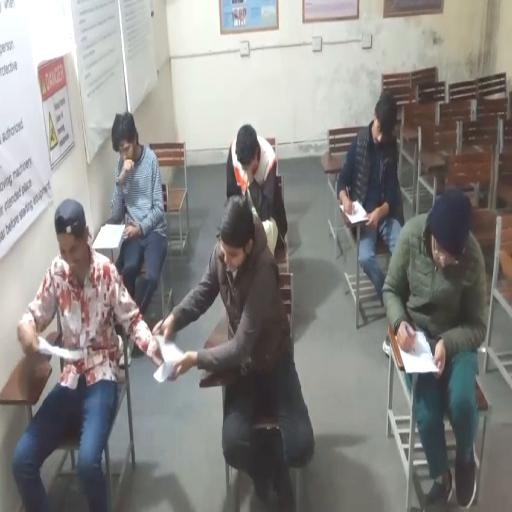paper: (398, 330, 440, 374), (150, 334, 186, 382), (37, 336, 84, 361), (94, 223, 126, 248), (340, 199, 370, 224)
